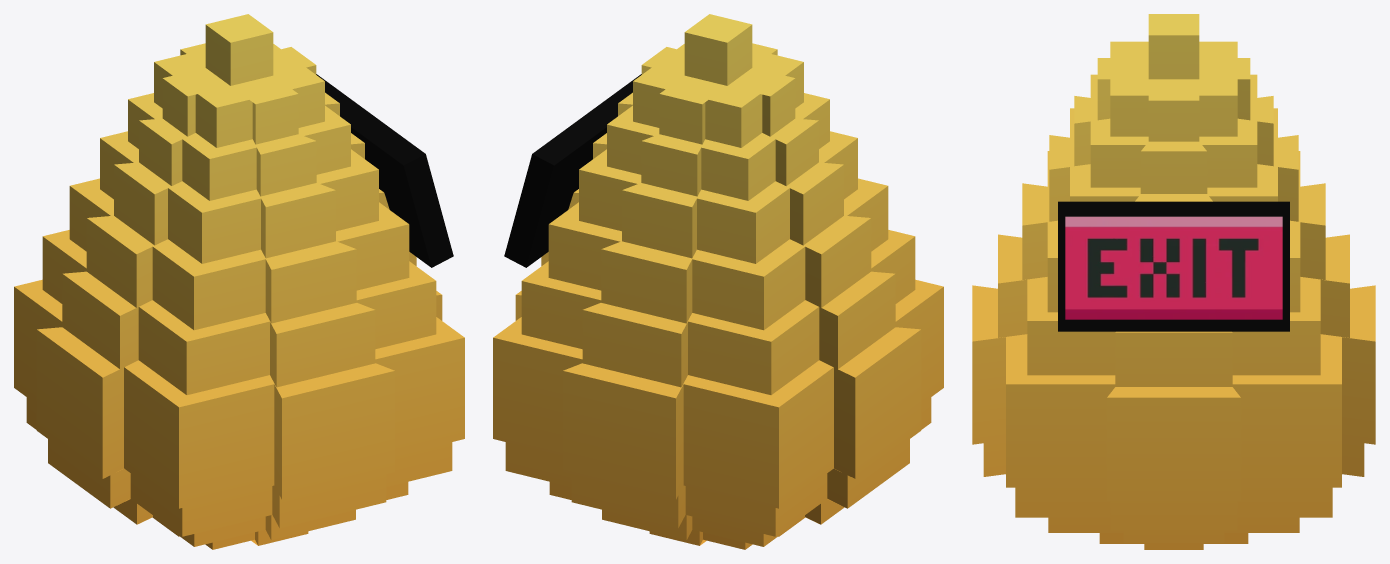
Rendered from exit egg.fbx.
The picture shows the model from 3 angles, left to right: view 1: azimuth 30°, elevation 25°; view 2: azimuth 150°, elevation 25°; view 3: azimuth 270°, elevation 25°; orthographic projection.
Parts seen in each view (by area): view 1: Plane_7; view 2: Plane_7; view 3: Plane_7.
Part boxes in pixels (x1,y1,x2,y2): Plane_7: (14, 14, 464, 549); Plane_7: (493, 14, 943, 549); Plane_7: (972, 14, 1375, 549).
Bounding box in the file's own units: 183 × 247 × 185.
